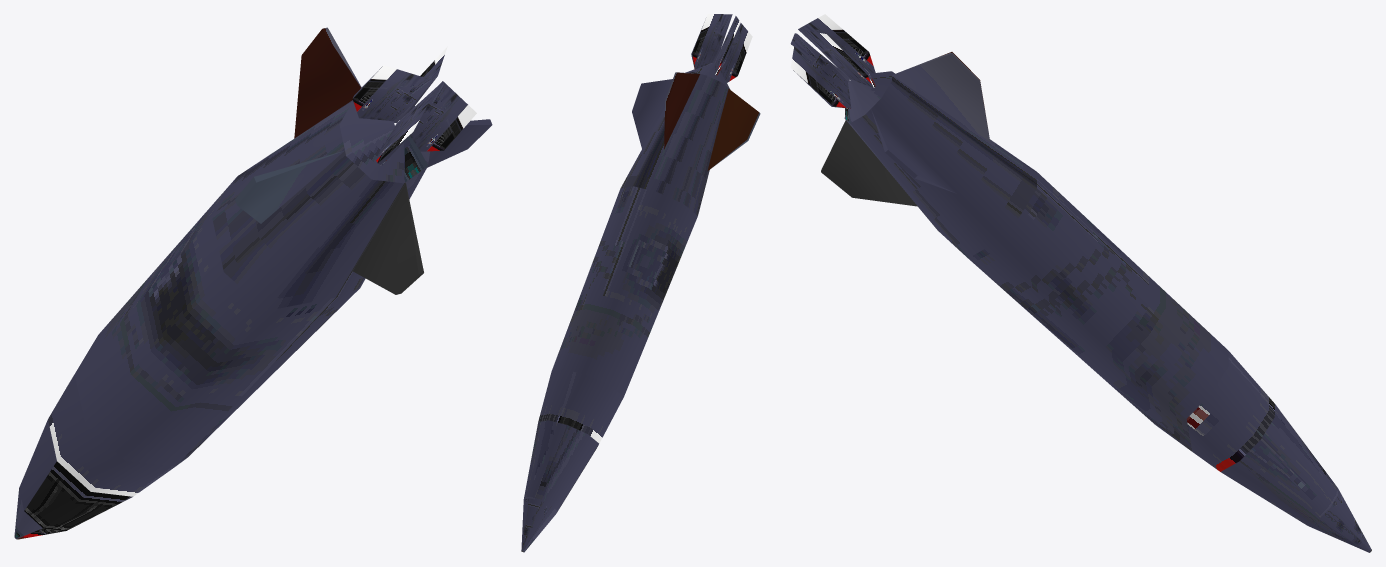
File: ps2_save-icons_conflictdesertstorm1.glb
The picture shows the model from 3 angles, left to right: view 1: azimuth 30°, elevation 25°; view 2: azimuth 150°, elevation 25°; view 3: azimuth 270°, elevation 25°; orthographic projection. The views are drawn at different scales.
Parts seen in each view (by area): view 1: storm.ico; view 2: storm.ico; view 3: storm.ico.
Boxes of the visible parts, x1,y1,x2,y2 form: storm.ico: [14, 27, 492, 539]; storm.ico: [521, 14, 760, 552]; storm.ico: [789, 14, 1371, 552].
Size of the model in its own units: 0.8989 by 2.83 by 2.83.
1 material, 1 textured.
